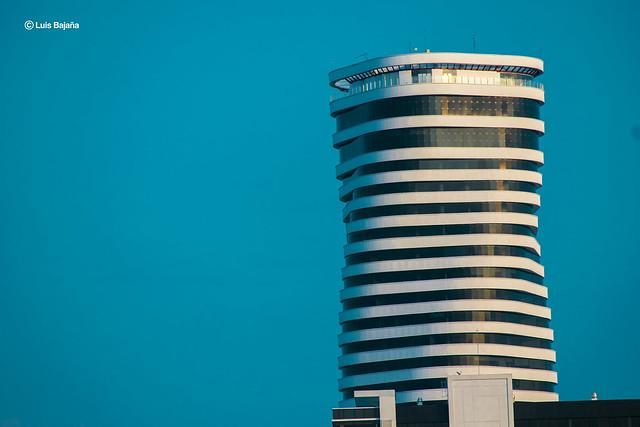building: (320, 49, 562, 427)
